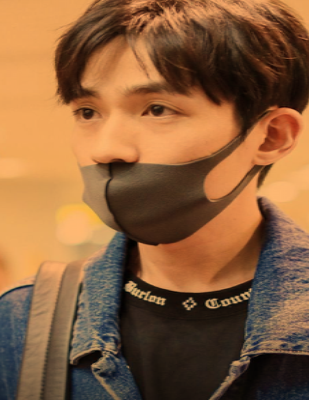mask_weared_incorrect: (66, 80, 233, 247)
